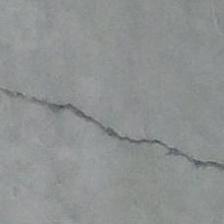Crack: (4, 25, 208, 208)
